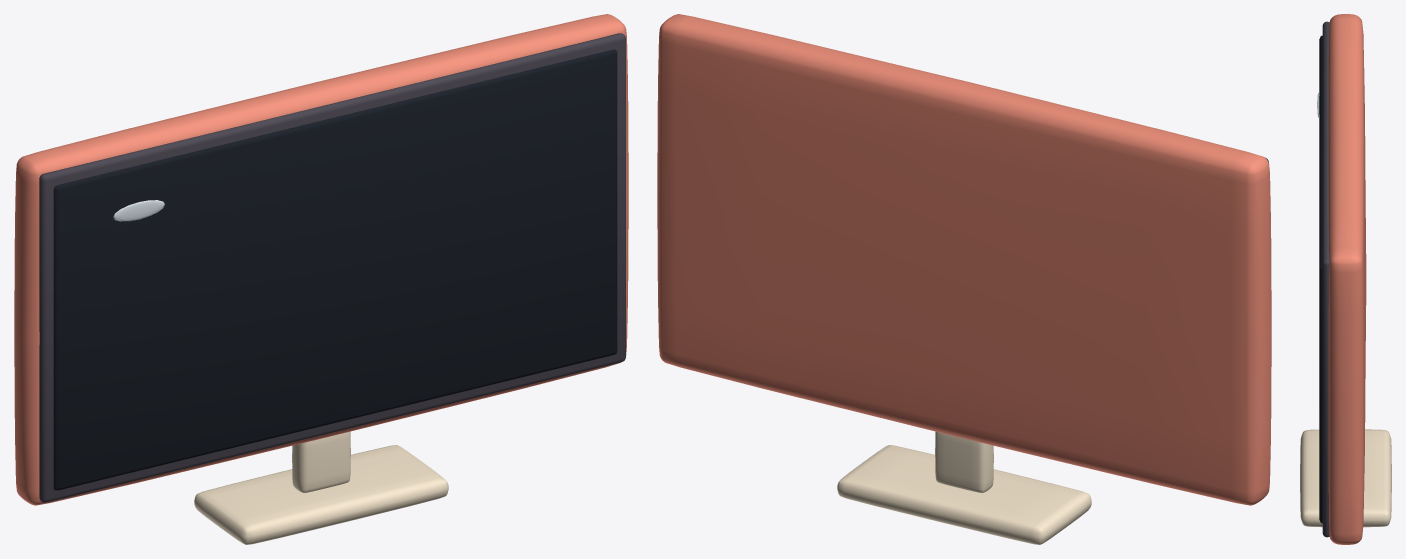
The picture shows the model from 3 angles, left to right: view 1: azimuth 30°, elevation 25°; view 2: azimuth 150°, elevation 25°; view 3: azimuth 270°, elevation 25°; orthographic projection. The views are drawn at different scales.
Parts seen in each view (by area): view 1: body; view 2: body; view 3: body.
Part boxes in pixels (x1=…): body: x1=14, y1=14, x2=628, y2=544; body: x1=657, y1=14, x2=1271, y2=544; body: x1=1300, y1=14, x2=1391, y2=544.
Size of the model in its own units: 1.16 by 0.77 by 0.18.
